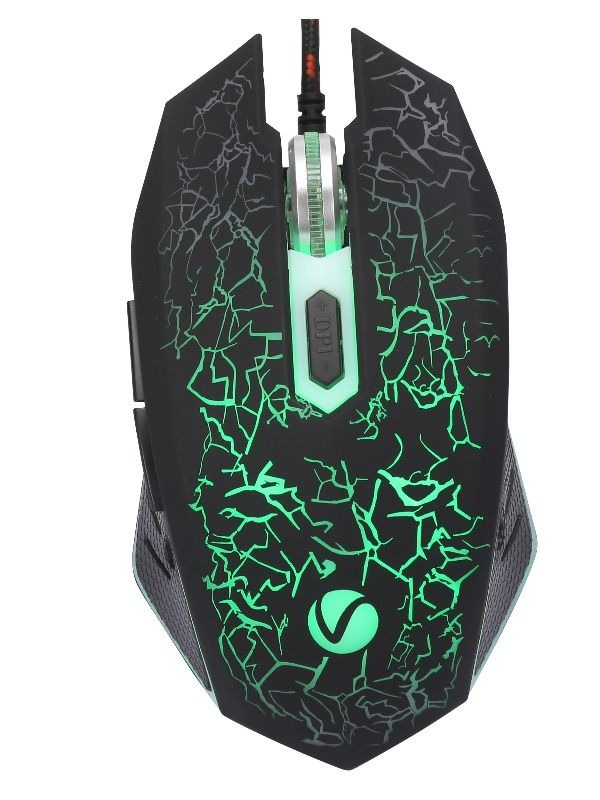mouse: (93, 17, 550, 777)
